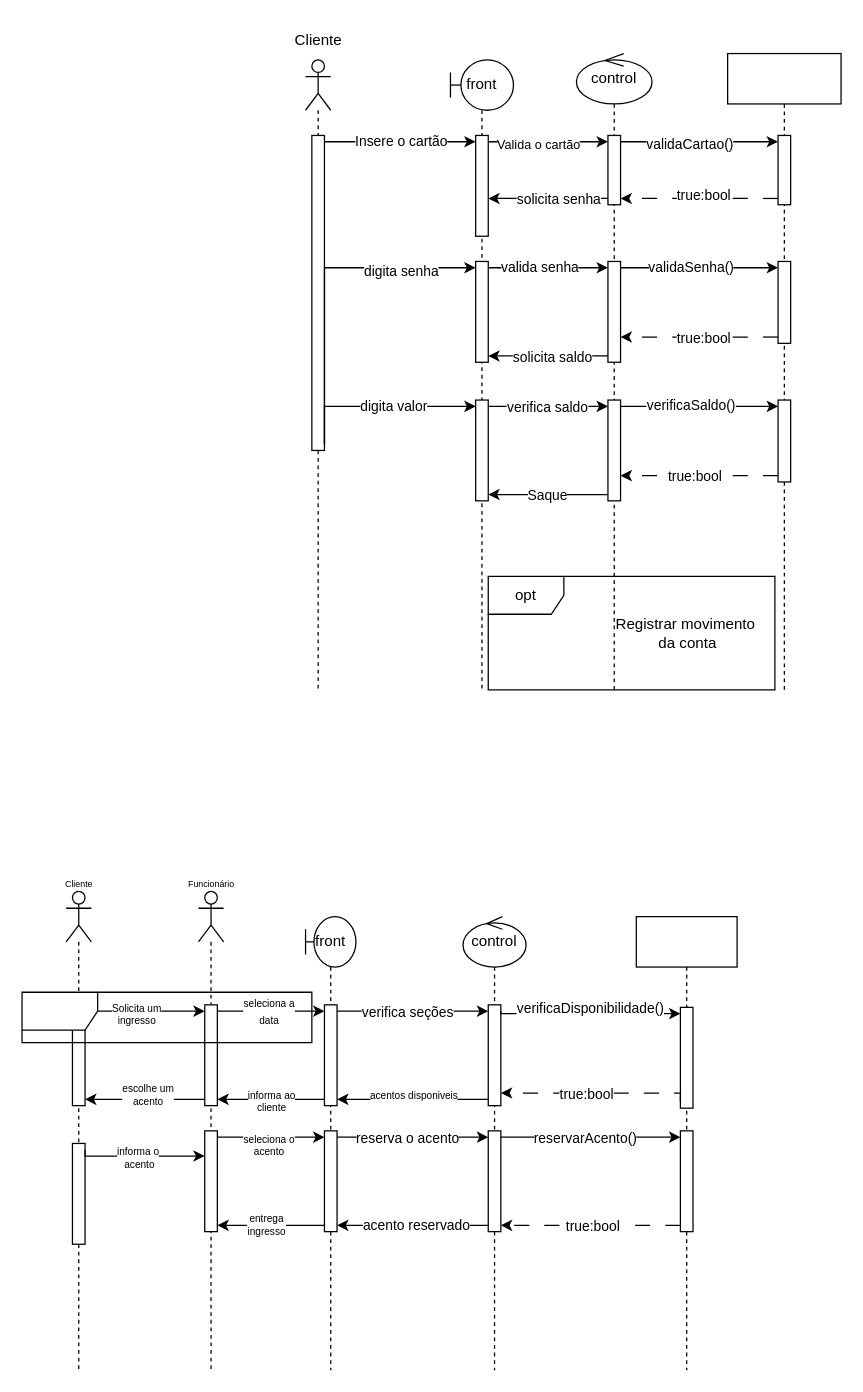
The diagram is 863 pixels wide and 1392 high, and some of its shapes have lost their labels. The centre of each missing label's shape, as x and y in pixels:
conta corrente: point (783, 371)
loop: point (166, 1017)
Sistema de ingressos: point (686, 1142)
